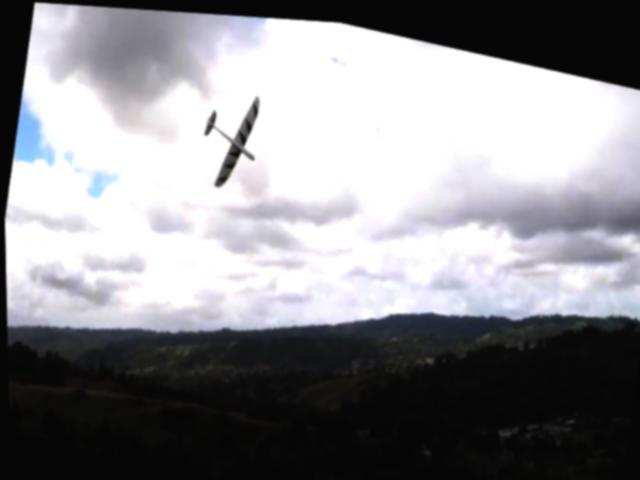iha: (190, 78, 275, 195)
